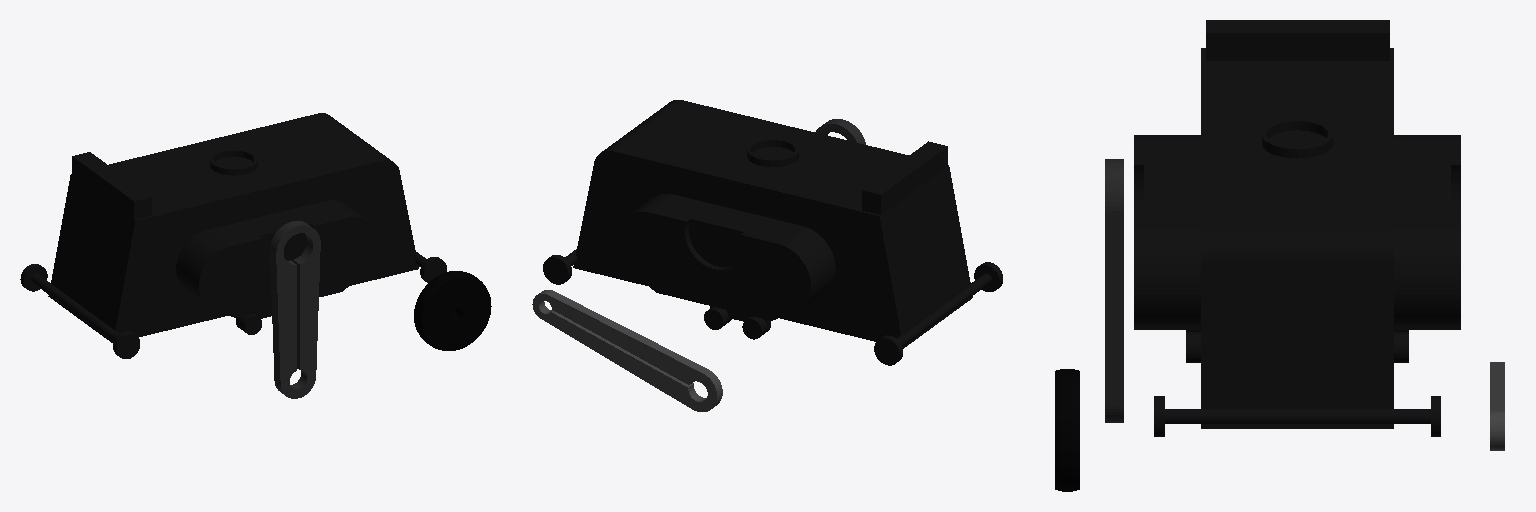
robot.urdf — wheel_legged_robot:
<?xml version="1.0" encoding="utf-8"?>

<robot name="wheel_legged_robot">
    <mujoco>
        <compiler meshdir="../meshes/" balanceinertia="false" discardvisual="false" fusestatic="false"/>
    </mujoco>
    <link name="base_link">
        <inertial>
            <origin xyz="0.0066 0 -0.0318" rpy="0 0 0"/>
            <mass value="11.513"/>
            <inertia ixx="0.1392" ixy="0.001321" ixz="-0.01715" iyy="0.2492" iyz="0.0002667" izz="0.3111"/>
        </inertial>
        <visual>
            <origin xyz="0 0 0" rpy="0 0 0"/>
            <geometry>
                <mesh filename="../meshes/base.STL"/>
            </geometry>
            <material name="">
                <color rgba="0.1 0.1 0.1 1"/>
            </material>
        </visual>
        <collision>
            <origin xyz="0 0 -0.03" rpy="0 0 0"/>
            <geometry>
                <box size="0.5 0.20 0.2"/>
            </geometry>
        </collision>
        <collision>
            <origin xyz="0 0 -0.04" rpy="0 0 0"/>
            <geometry>
                <box size="0.25 0.32 0.12"/>
            </geometry>
        </collision>
        <collision>
            <origin xyz="0.257 0 -0.115" rpy="1.57079632 0 0"/>
            <geometry>
                <cylinder length="0.28" radius="0.02"/>
            </geometry>
        </collision>
        <collision>
            <origin xyz="-0.257 0 -0.115" rpy="1.57079632 0 0"/>
            <geometry>
                <cylinder length="0.28" radius="0.02"/>
            </geometry>
        </collision>
        <collision>
            <origin xyz="0.03 0 -0.148" rpy="1.57079632 0 0"/>
            <geometry>
                <cylinder length="0.22" radius="0.015"/>
            </geometry>
        </collision>
        <collision>
            <origin xyz="-0.03 0 -0.148" rpy="1.57079632 0 0"/>
            <geometry>
                <cylinder length="0.22" radius="0.015"/>
            </geometry>
        </collision>
    </link>
    <link name="hip_l_link">
        <inertial>
            <origin xyz="0.098 0 0" rpy="0 0 0"/>
            <mass value="0.934"/>
            <inertia ixx="0.0002846" ixy="0.0000143136" ixz="0.0001012944" iyy="0.003525624" iyz="-0.0000042544" izz="0.0032762672"/>
        </inertial>
        <visual>
            <origin xyz="0 0 0" rpy="0 0 0"/>
            <geometry>
                <mesh filename="../meshes/hip_link_l.STL"/>
            </geometry>
            <material name="">
                <color rgba="0.2 0.2 0.2 1"/>
            </material>
        </visual>
        <collision>
            <origin xyz="0.105 0 0" rpy="0 0 0"/>
            <geometry>
                <box size="0.21 0.015 0.06"/>
            </geometry>
        </collision>
        <collision>
            <origin xyz="0.210 0 0" rpy="1.57079632 0 0"/>
            <geometry>
                <cylinder length="0.015" radius="0.03"/>
            </geometry> 
        </collision>
    </link>
    <joint name="hip_l_joint" type="continuous">
        <origin xyz="0 0.179 0" rpy="0 1.5708 0"/>
        <parent link="base_link"/>
        <child link="hip_l_link"/>
        <axis xyz="0 1 0"/>
        <limit effort="80" velocity="20"/>
    </joint>
    <link name="knee_l_link">
        <inertial>
            <origin xyz="0.123 0 0" rpy="0 0 0"/>
            <mass value="0.67"/>
            <inertia ixx="0.0009460464" ixy="0.0016010944" ixz="0.000006592" iyy="0.0033157904" iyz="-0.0000033216" izz="0.0042459008"/>
        </inertial>
        <visual>
            <origin xyz="0 0 0" rpy="0 0 0"/>
            <geometry>
                <mesh filename="../meshes/knee_link_l.STL"/>
            </geometry>
            <material name="">
                <color rgba="0.3 0.3 0.3 1"/>
            </material>
        </visual>
        <collision>
            <origin xyz="0.124 0 0" rpy="0 0 0"/>
            <geometry>
                <box size="0.248 0.015 0.06"/>
            </geometry>
        </collision>
        <collision>
            <origin xyz="0 0 0" rpy="1.57079632 0 0"/>
            <geometry>
                <cylinder length="0.018" radius="0.03"/>
            </geometry> 
        </collision>
    </link>
    <joint name="knee_l_joint" type="revolute">
        <origin xyz="0.210 0.0165 0" rpy="0 3.1416 0"/>
        <parent link="hip_l_link"/>
        <child link="knee_l_link"/>
        <axis xyz="0 1 0"/>
        <limit lower="0.416" upper="2.153" effort="80" velocity="20"/>
    </joint>
    <link name="wheel_l">
        <inertial>
            <origin xyz="0 0 0" rpy="0 0 0"/>
            <mass value="0.468"/>
            <inertia ixx="0.00034258" ixy="0.0" ixz="0.0" iyy="0.00054" iyz="0.0" izz="0.000343769"/>
        </inertial>
        <visual>
            <origin xyz="0 0 0" rpy="0 0 0"/>
            <geometry>
                <mesh filename="../meshes/wheel_l.STL"/>
            </geometry>
            <material name="">
                <color rgba="0.05 0.05 0.05 1"/>
            </material>
        </visual>
        <collision>
            <origin xyz="0 0 0" rpy="1.57079632 0 0"/>
            <geometry>
                <cylinder length="0.015" radius="0.06"/>
            </geometry>
        </collision>
    </link>
    <joint name="wheel_l_joint" type="continuous">
        <origin xyz="0.248 0.0295 0" rpy="0 0 0"/>
        <parent link="knee_l_link"/>
        <child link="wheel_l"/>
        <axis xyz="0 1 0"/>
        <limit effort="5" velocity="60"/>
    </joint>
    <link name="hip_r_link">
        <inertial>
            <origin xyz="0.098 0 0" rpy="0 0 0"/>
            <mass value="0.934"/>
            <inertia ixx="0.0002846" ixy="0.0000143136" ixz="0.0001012944" iyy="0.003525624" iyz="-0.0000042544" izz="0.0032762672"/>
        </inertial>
        <visual>
            <origin xyz="0 0 0" rpy="0 0 0"/>
            <geometry>
                <mesh filename="../meshes/hip_link_r.STL"/>
            </geometry>
            <material name="">
                <color rgba="0.2 0.2 0.2 1"/>
            </material>
        </visual>
        <collision>
            <origin xyz="0.105 0 0" rpy="0 0 0"/>
            <geometry>
                <box size="0.21 0.015 0.06"/>
            </geometry>
        </collision>
        <collision>
            <origin xyz="0.210 0 0" rpy="1.57079632 0 0"/>
            <geometry>
                <cylinder length="0.015" radius="0.03"/>
            </geometry> 
        </collision>
    </link>
    <joint name="hip_r_joint" type="continuous">
        <origin xyz="0 -0.179 0" rpy="0 1.5708 0"/>
        <parent link="base_link"/>
        <child link="hip_r_link"/>
        <axis xyz="0 1 0"/>
        <limit effort="80" velocity="20"/>
    </joint>
    <link name="knee_r_link">
        <inertial>
            <origin xyz="0.123 0 0" rpy="0 0 0"/>
            <mass value="0.67"/>
            <inertia ixx="0.0009460464" ixy="0.0016010944" ixz="0.000006592" iyy="0.0033157904" iyz="-0.0000033216" izz="0.0042459008"/>
        </inertial>
        <visual>
            <origin xyz="0 0 0" rpy="0 0 0"/>
            <geometry>
                <mesh filename="../meshes/knee_link_r.STL"/>
            </geometry>
            <material name="">
                <color rgba="0.3 0.3 0.3 1"/>
            </material>
        </visual>
        <collision>
            <origin xyz="0.124 0 0" rpy="0 0 0"/>
            <geometry>
                <box size="0.248 0.015 0.06"/>
            </geometry>
        </collision>
        <collision>
            <origin xyz="0 0 0" rpy="1.57079632 0 0"/>
            <geometry>
                <cylinder length="0.018" radius="0.03"/>
            </geometry> 
        </collision>
    </link>
    <joint name="knee_r_joint" type="revolute">
        <origin xyz="0.210 -0.0165 0" rpy="0 3.1416 0"/>
        <parent link="hip_r_link"/>
        <child link="knee_r_link"/>
        <axis xyz="0 1 0"/>
        <limit lower="0.416" upper="2.153" effort="80" velocity="20"/>
    </joint>
    <link name="wheel_r">
        <inertial>
            <origin xyz="0 0 0" rpy="0 0 0"/>
            <mass value="0.468"/>
            <inertia ixx="0.00034258" ixy="0.0" ixz="0.0" iyy="0.00054" iyz="0.0" izz="0.000343769"/>
        </inertial>
        <visual>
            <origin xyz="0 0 0" rpy="0 0 0"/>
            <geometry>
                <mesh filename="../meshes/wheel_r.STL"/>
            </geometry>
            <material name="">
                <color rgba="0.05 0.05 0.05 1"/>
            </material>
        </visual>
        <collision>
            <origin xyz="0 0 0" rpy="1.57079632 0 0"/>
            <geometry>
                <cylinder length="0.015" radius="0.06"/>
            </geometry>
        </collision>
    </link>
    <joint name="wheel_r_joint" type="continuous">
        <origin xyz="0.248 -0.0295 0" rpy="0 0 0"/>
        <parent link="knee_r_link"/>
        <child link="wheel_r"/>
        <axis xyz="0 1 0"/>
        <limit effort="5" velocity="60"/>
    </joint>

</robot>

--- What the picture shows (computed from the rendered views, not written in the file) ---
3 views of the same robot in one strip: view 1: azimuth 30°, elevation 25°; view 2: azimuth 150°, elevation 25°; view 3: azimuth 270°, elevation 25° (orthographic).
Model wheel_legged_robot with 7 links and 6 joints (2 revolute, 4 continuous), rooted at base_link, posed joints at zero except 2 at the middle of their limits (knee_l_joint = 1.28, knee_r_joint = 1.28).
Links seen in each view (by area): view 1: base_link, hip_r_link, wheel_r; view 2: base_link, knee_l_link, hip_r_link; view 3: base_link, hip_r_link, wheel_r, knee_l_link.
Boxes of the visible links, x1,y1,x2,y2 form: base_link: [20, 113, 446, 358]; hip_r_link: [270, 221, 320, 398]; wheel_r: [414, 271, 491, 350]; base_link: [543, 100, 1002, 365]; knee_l_link: [532, 290, 722, 411]; hip_r_link: [815, 119, 865, 144]; base_link: [1134, 20, 1460, 436]; hip_r_link: [1105, 159, 1123, 422]; wheel_r: [1055, 369, 1079, 491]; knee_l_link: [1490, 362, 1504, 450].
Bounding box of the posed robot: 0.5759 × 0.4405 × 0.3285 m (x, y, z).
Meshes: 7 distinct files referenced, 4 mesh visuals loaded (4 binary STL); not drawn: 3 (reference not matched to a file when rendering).
